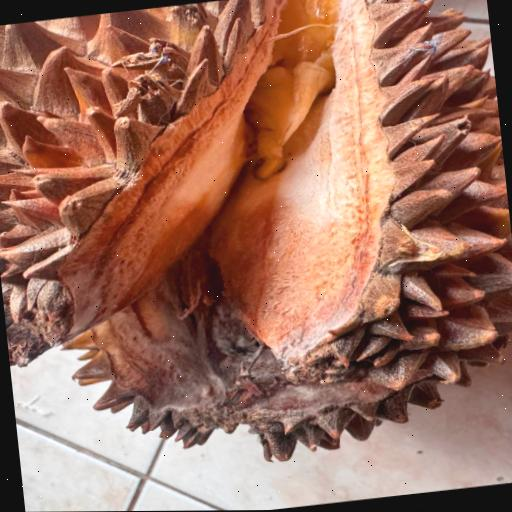rot: (4, 0, 512, 512)
